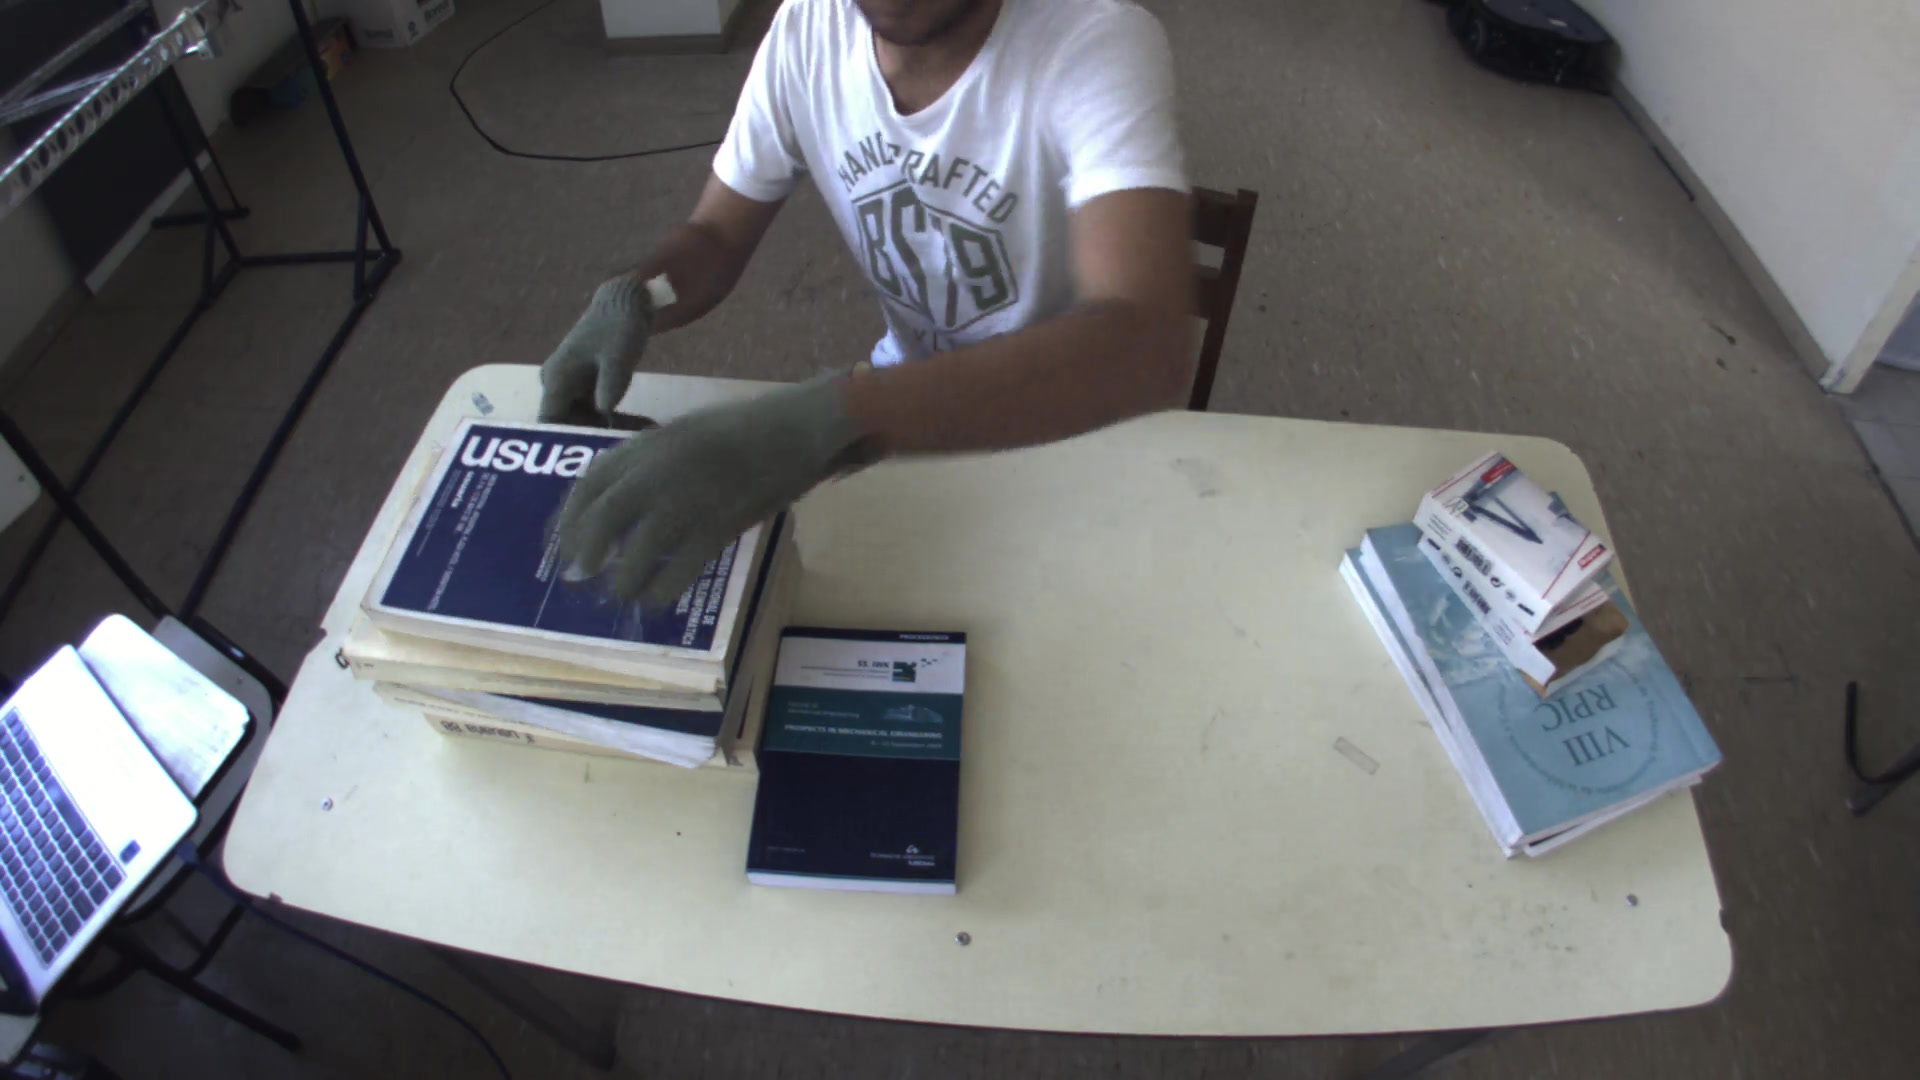hand: (529, 367, 858, 612), (522, 266, 662, 429)
